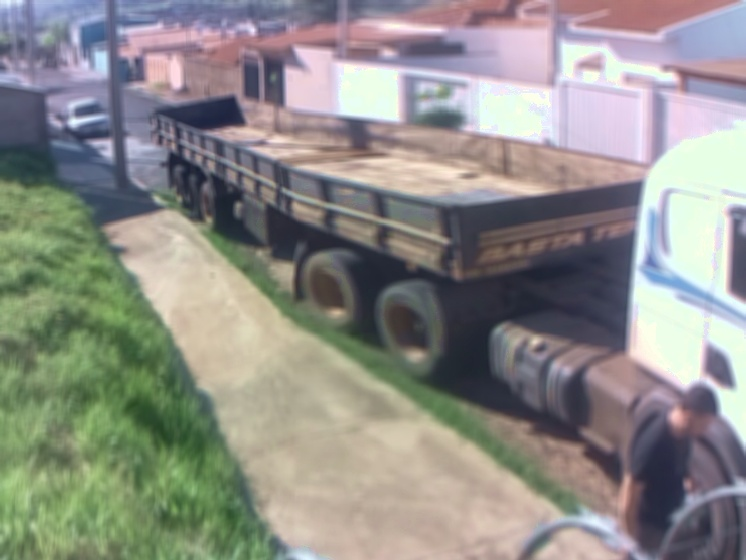person: (616, 383, 722, 560)
